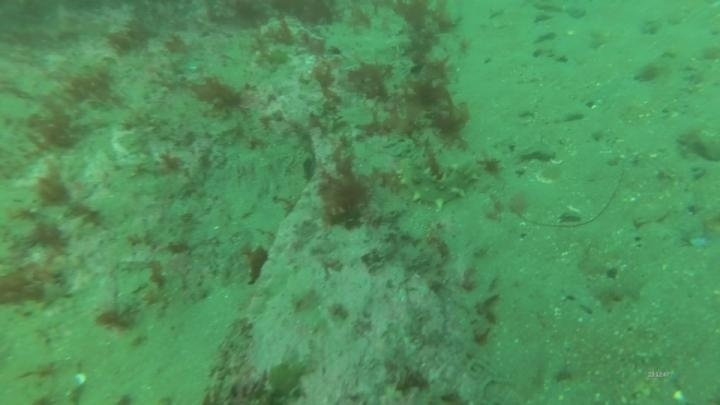holothurian: (391, 154, 482, 212)
